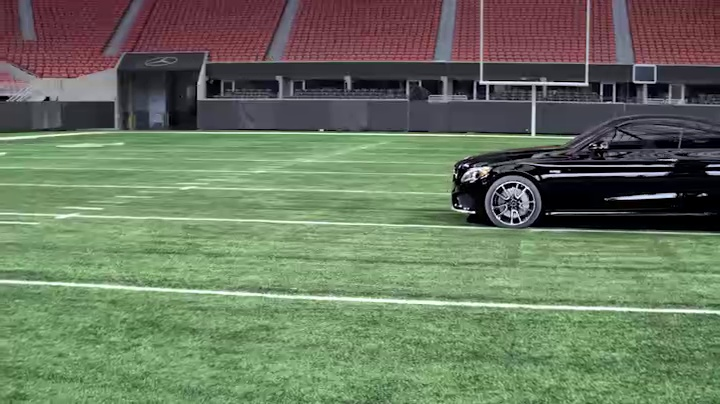amg: (449, 113, 720, 231)
